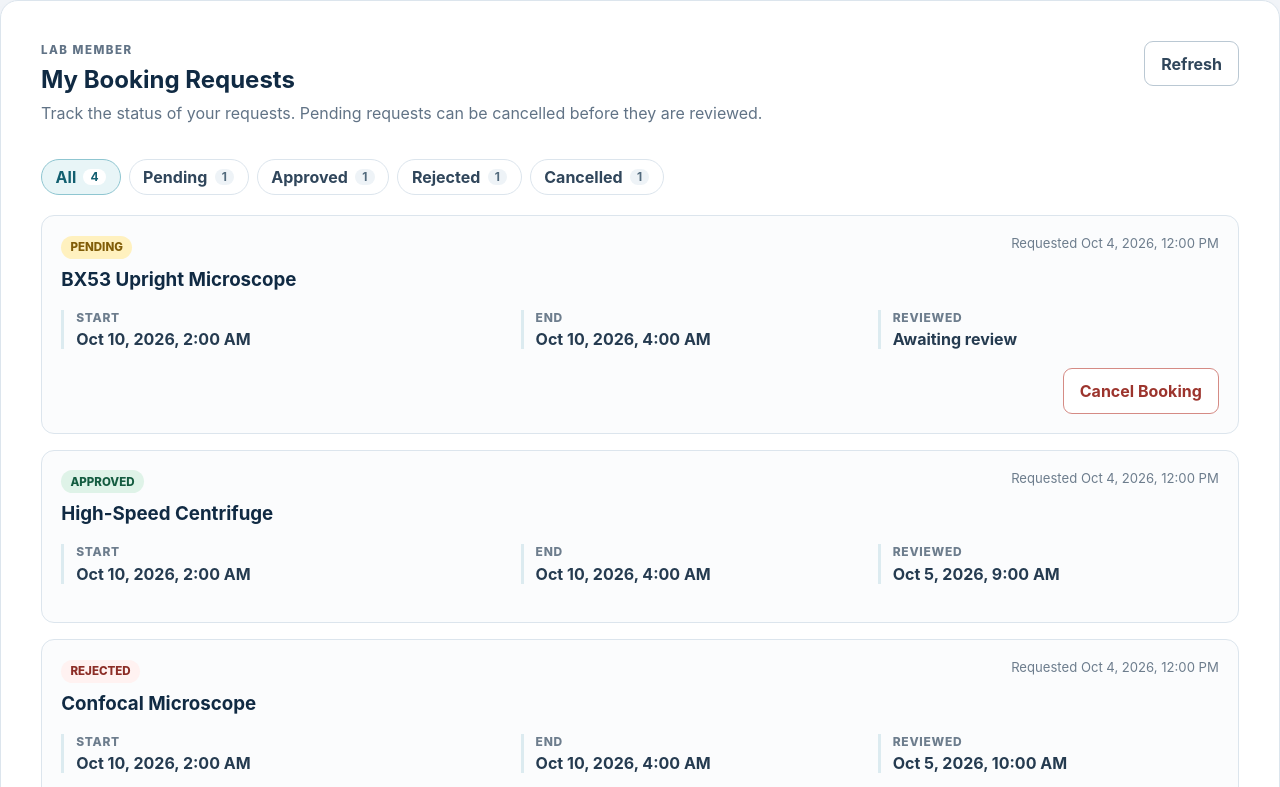
it: MyBookings › shows the server reason when a cancellation fails
This screenshot has width=1280, height=787.
What coordinates should you click on to do the following:
click the button "Cancel Booking"
I would click on:
 (1141, 391)
Its box is [1063,368,1219,414].
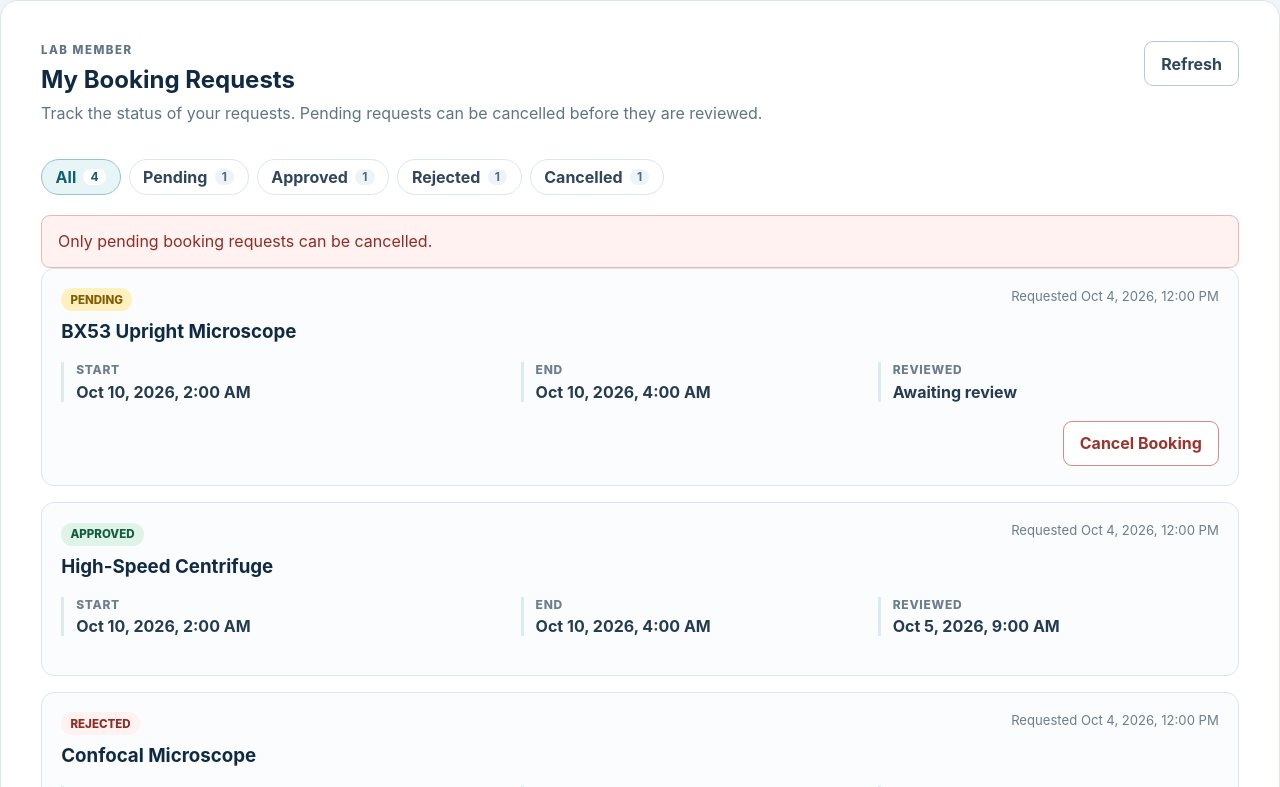
expect the button "Cancel Booking" is enabled: met, box [1063,421,1219,466]
expect the message reads "Only pending booking requests can be cancelled.": met, box [58,231,432,251]
